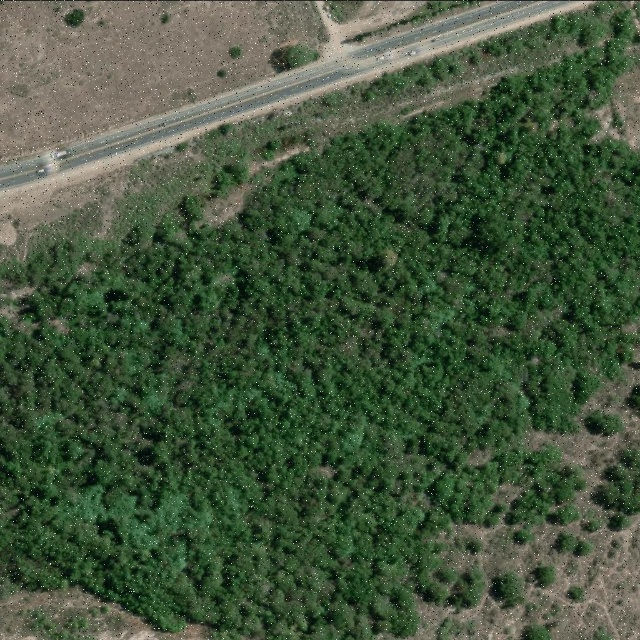vegetation: (0, 0, 640, 640), (271, 44, 324, 71)
